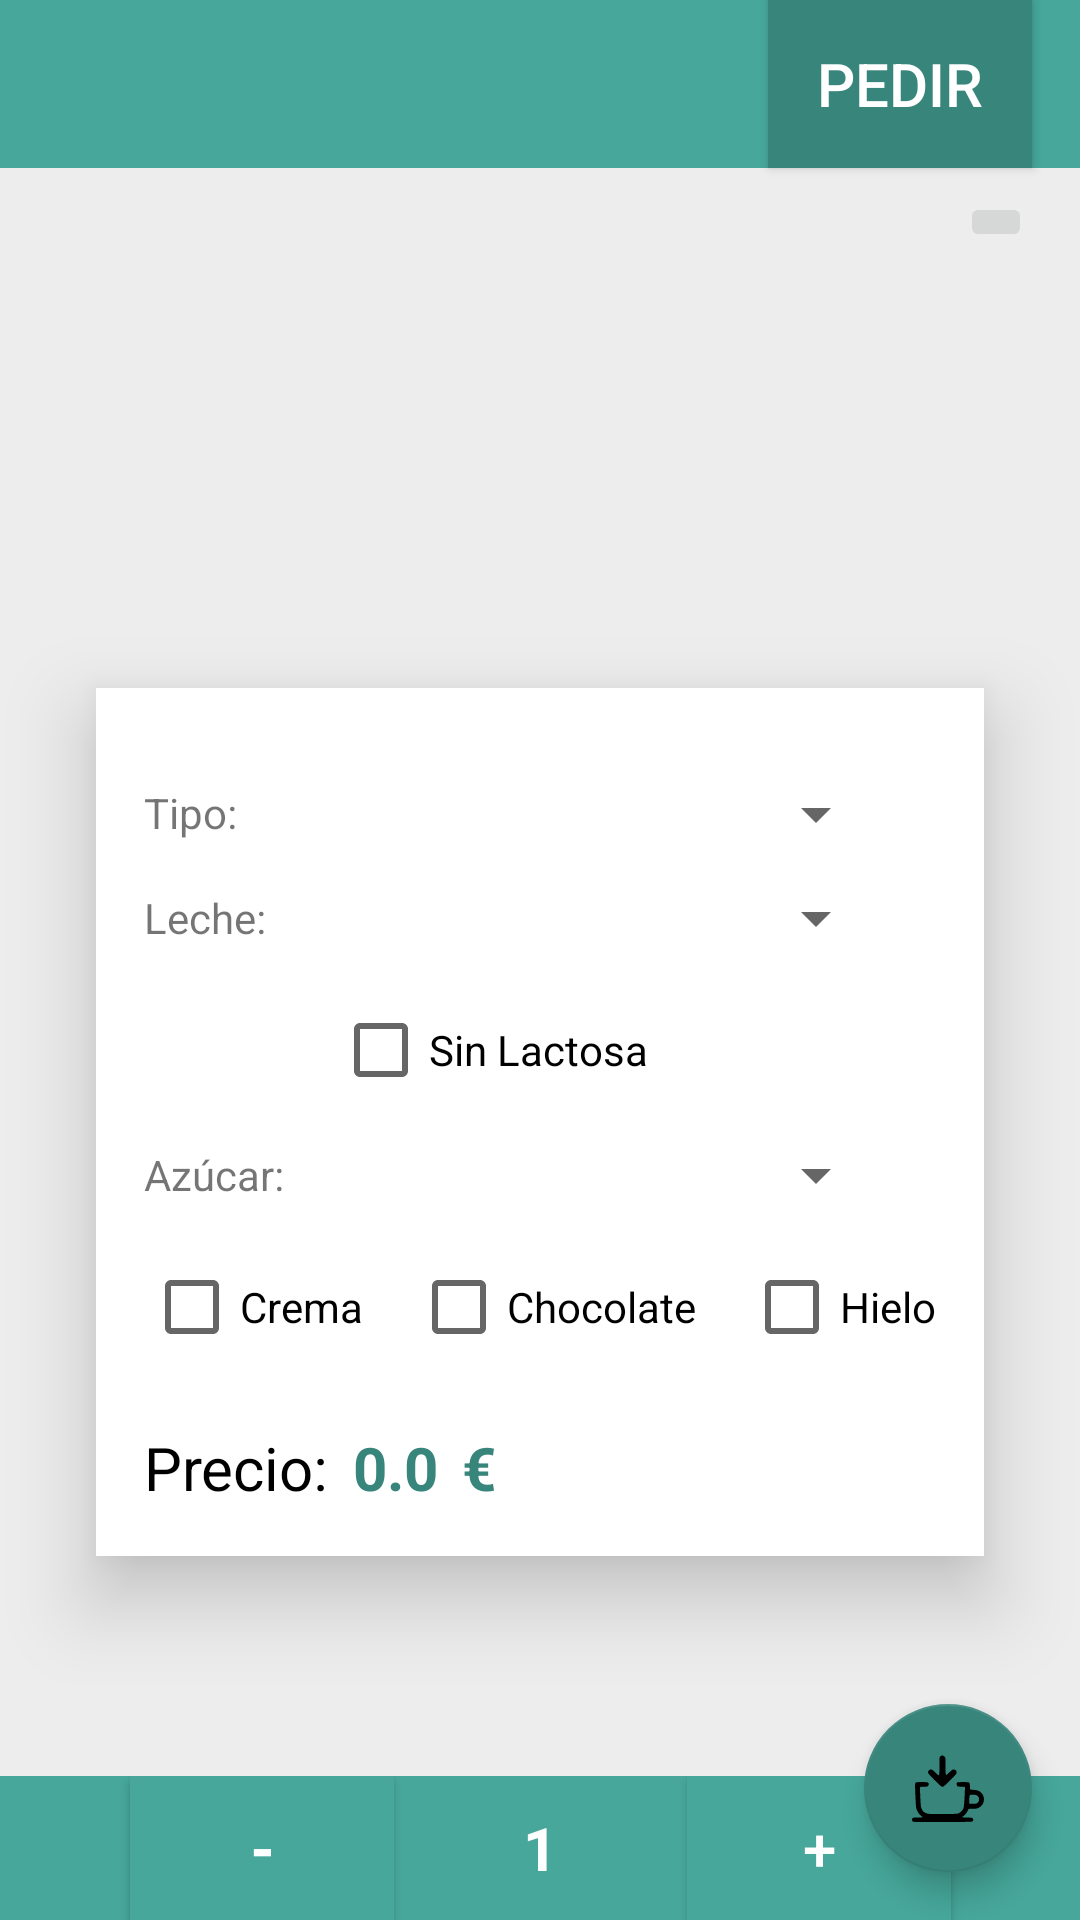

Where to tap for icons on this 1080×1920 app screen, as point (x, y):
coffee cup: point (948, 1788)
